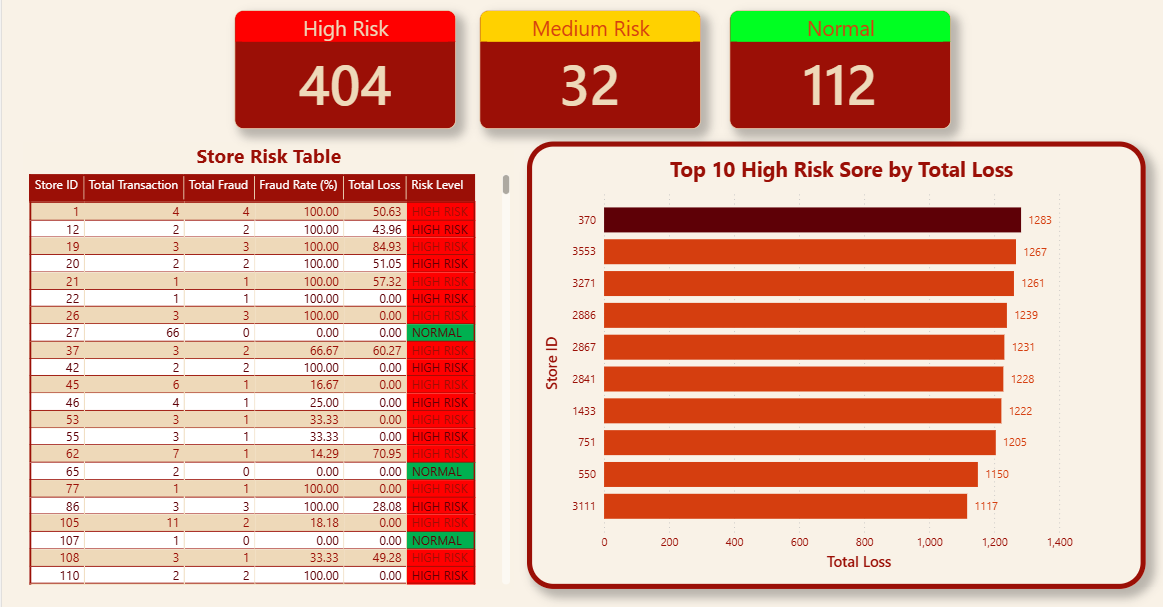

This screenshot's page, from the dashboard's own definition file:
{"tool":"powerbi","page":{"name":"Store Risk Monitor","canvas":[1280,720],"ordinal":1},"visuals":[{"type":"tableEx","title":"Store Risk Table","fields":{"Values":["dim_stores.STORE_ID","dim_stores.total_transactions","dim_stores.total_fraud","dim_stores.fraud_rate_pct","dim_stores.total_loss","dim_stores.risk_level"]},"box":[23.3,205.8,539.3,491.3],"z":0},{"type":"clusteredBarChart","title":"Top 10 High Risk Sore by Total Loss","fields":{"Category":["dim_stores.STORE_ID"],"Y":["Sum(dim_stores.total_loss)"]},"box":[576.3,205.8,679.2,491.3],"z":1000},{"type":"card","title":"High Risk","fields":{"Values":["fact_transactions.High Risk Stores"]},"box":[255.2,62,242.9,130.4],"z":2000},{"type":"card","title":"Medium Risk","fields":{"Values":["dim_stores.Medium Risk Stores"]},"box":[524.2,62,242.9,130.4],"z":3000},{"type":"card","title":"Normal","fields":{"Values":["dim_stores.Normal Stores"]},"box":[798.6,62,242.9,130.4],"z":4000}]}

Visuals, with their boxes on the page's 1280x720 design canvas (x1, y1, x2, y2). These are canvas units, not pixel positions in the 1163x607 screenshot, which may show the page scaled, cropped or inside an application window:
"Store Risk Table" tableEx: (x1=23, y1=206, x2=563, y2=697)
"Top 10 High Risk Sore by Total Loss" clusteredBarChart: (x1=576, y1=206, x2=1256, y2=697)
"High Risk" card: (x1=255, y1=62, x2=498, y2=192)
"Medium Risk" card: (x1=524, y1=62, x2=767, y2=192)
"Normal" card: (x1=799, y1=62, x2=1042, y2=192)
